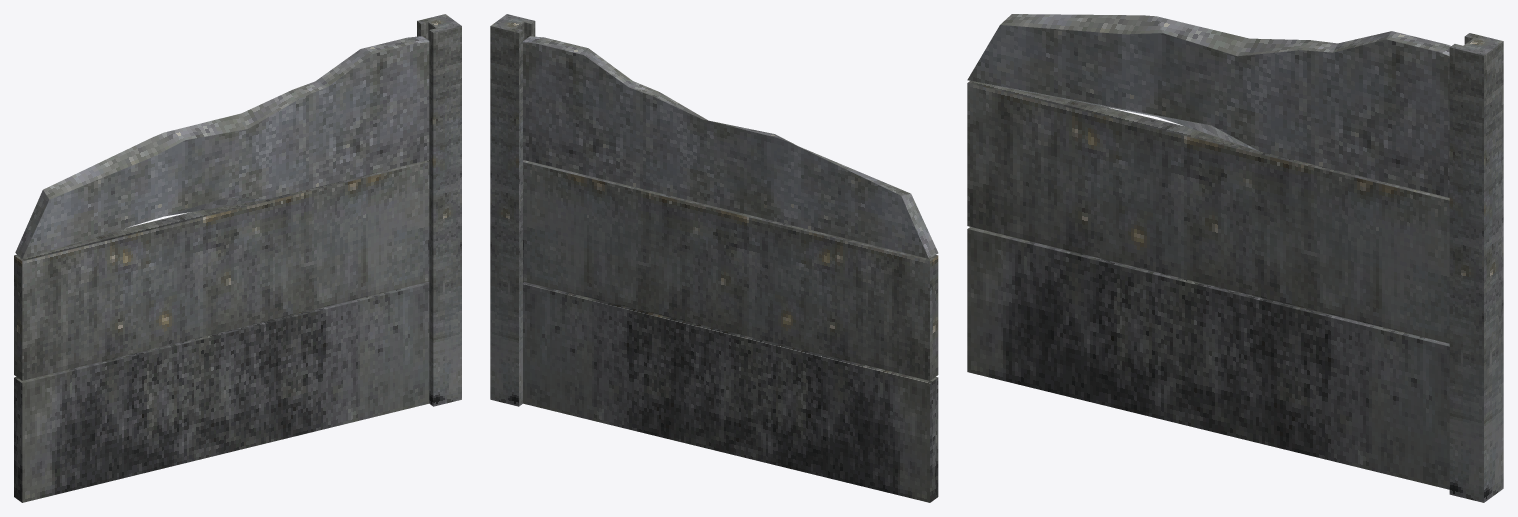
File: plackard_broken_alt.glb
3 renders of one model, left to right at view 1: azimuth 30°, elevation 25°; view 2: azimuth 150°, elevation 25°; view 3: azimuth 330°, elevation 25°, orthographic. The views are drawn at different scales.
Parts seen in each view (by area): view 1: plackard_broken_alt; view 2: plackard_broken_alt; view 3: plackard_broken_alt.
Part boxes in pixels (left/top/right/bottom): plackard_broken_alt: left=14, top=14, right=461, bottom=502; plackard_broken_alt: left=490, top=14, right=938, bottom=502; plackard_broken_alt: left=967, top=14, right=1503, bottom=502.
Size of the model in its own units: 3.81 by 3.12 by 0.25.
Materials: 1 (1 with a texture image).
